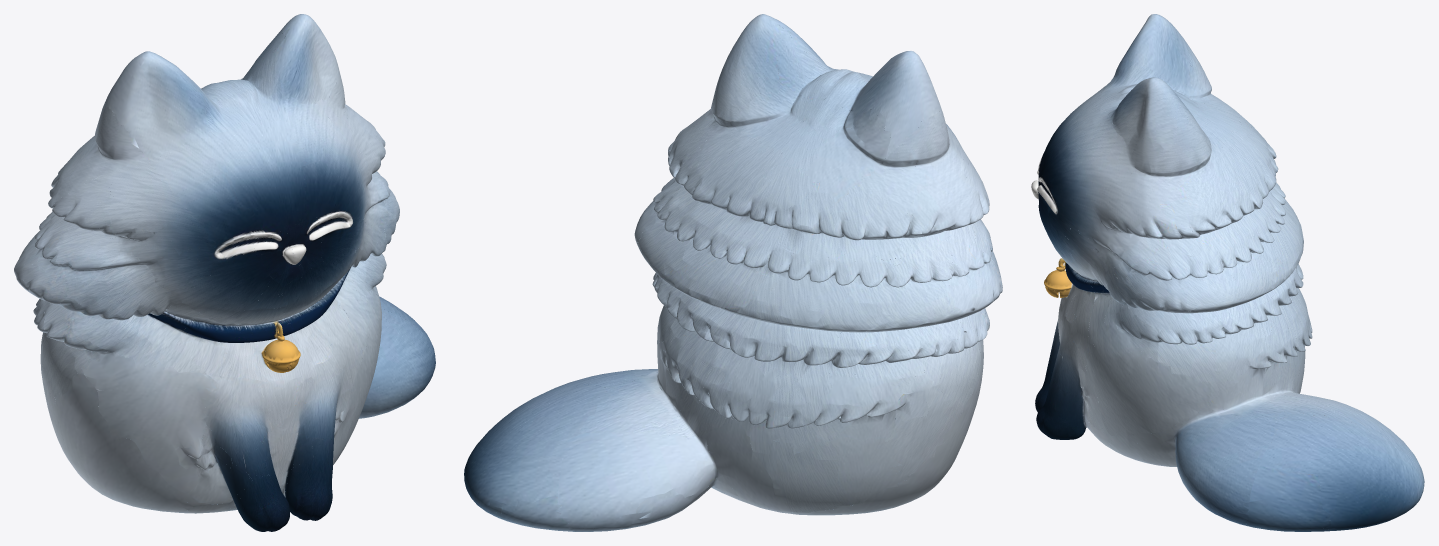
File: bell-collar-bMHy7C2F.glb
3 renders of one model, left to right at view 1: azimuth 30°, elevation 25°; view 2: azimuth 150°, elevation 25°; view 3: azimuth 270°, elevation 25°, orthographic. The views are drawn at different scales.
Visible parts, largest first — view 1: worn-bell-collar; view 2: worn-bell-collar; view 3: worn-bell-collar.
Part boxes in pixels (<box>): worn-bell-collar: <box>14,14,435,531</box>; worn-bell-collar: <box>464,14,1002,531</box>; worn-bell-collar: <box>1031,14,1424,531</box>.
Size of the model in its own units: 1.9 by 1.77 by 1.67.
1 material, 1 textured.
